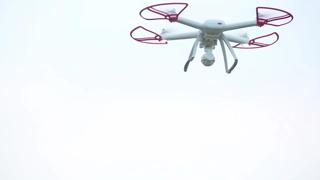UAV: (130, 3, 294, 74)
